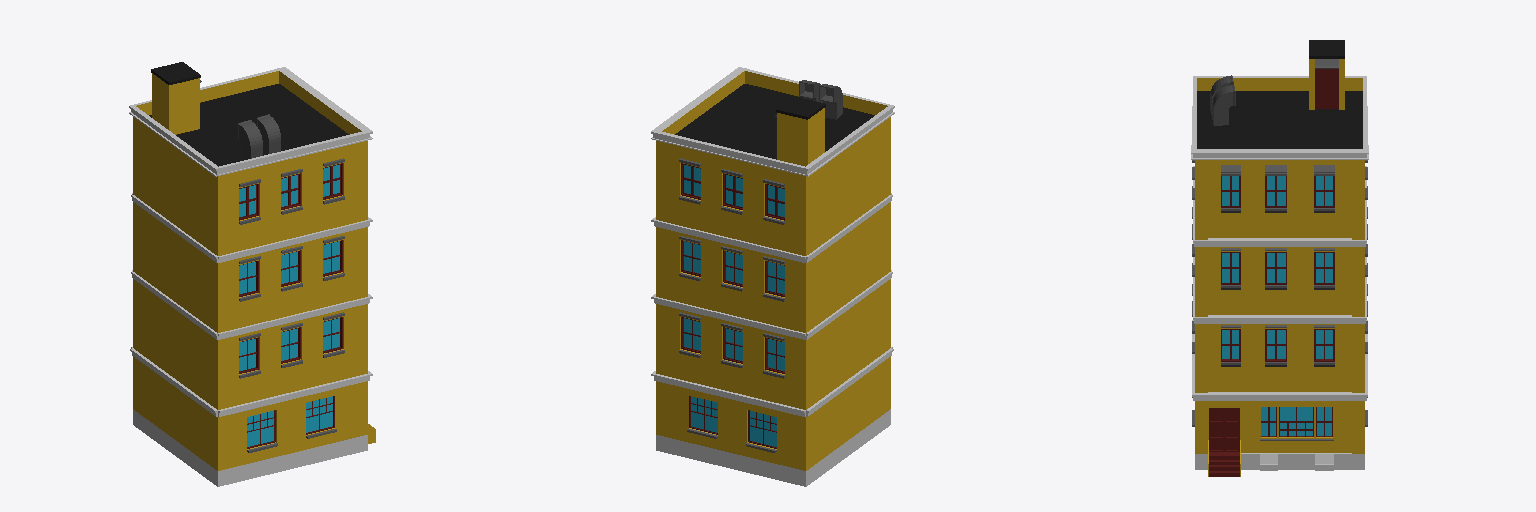
Rendered from Building1.obj.
3 renders of one model, left to right at view 1: azimuth 30°, elevation 25°; view 2: azimuth 150°, elevation 25°; view 3: azimuth 270°, elevation 25°, orthographic.
Parts seen in each view (by area): view 1: Cube.001, Cube.004, Cube; view 2: Cube.001, Cube.004, Cube; view 3: Cube.004, Cube.001, Cube, Cube.002.
Part boxes in pixels (bbox=[...]): Cube.001: bbox=[131, 193, 372, 409]; Cube.004: bbox=[129, 62, 372, 255]; Cube: bbox=[130, 347, 372, 486]; Cube.001: bbox=[651, 193, 892, 409]; Cube.004: bbox=[651, 67, 894, 255]; Cube: bbox=[651, 347, 893, 486]; Cube.004: bbox=[1191, 40, 1368, 239]; Cube.001: bbox=[1192, 166, 1367, 392]; Cube: bbox=[1192, 320, 1367, 470]; Cube.002: bbox=[1208, 440, 1240, 476].
Size of the model in its own units: 1.14 by 2.35 by 1.04.